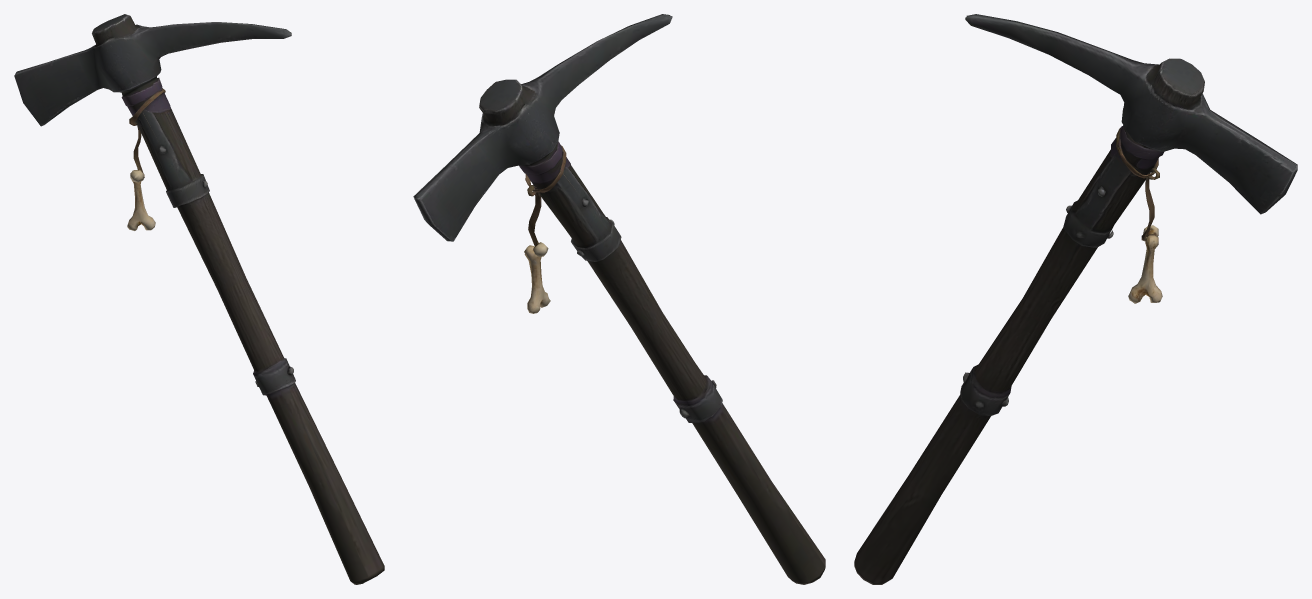
Rendered from tool_pickaxe.glb.
The picture shows the model from 3 angles, left to right: view 1: azimuth 90°, elevation 25°; view 2: azimuth 150°, elevation 25°; view 3: azimuth 270°, elevation 25°; orthographic projection. The views are drawn at different scales.
Visible parts, largest first — view 1: tripo_node_fe6b5966-6a55-4e2a-aa29-9f68be7b10dd; view 2: tripo_node_fe6b5966-6a55-4e2a-aa29-9f68be7b10dd; view 3: tripo_node_fe6b5966-6a55-4e2a-aa29-9f68be7b10dd.
Boxes of the visible parts, x1,y1,x2,y2 form: tripo_node_fe6b5966-6a55-4e2a-aa29-9f68be7b10dd: (14,14,384,584); tripo_node_fe6b5966-6a55-4e2a-aa29-9f68be7b10dd: (413,14,825,584); tripo_node_fe6b5966-6a55-4e2a-aa29-9f68be7b10dd: (854,14,1297,584).
Size of the model in its own units: 0.3926 by 0.998 by 0.6543.
Materials: 1 (1 with a texture image).
